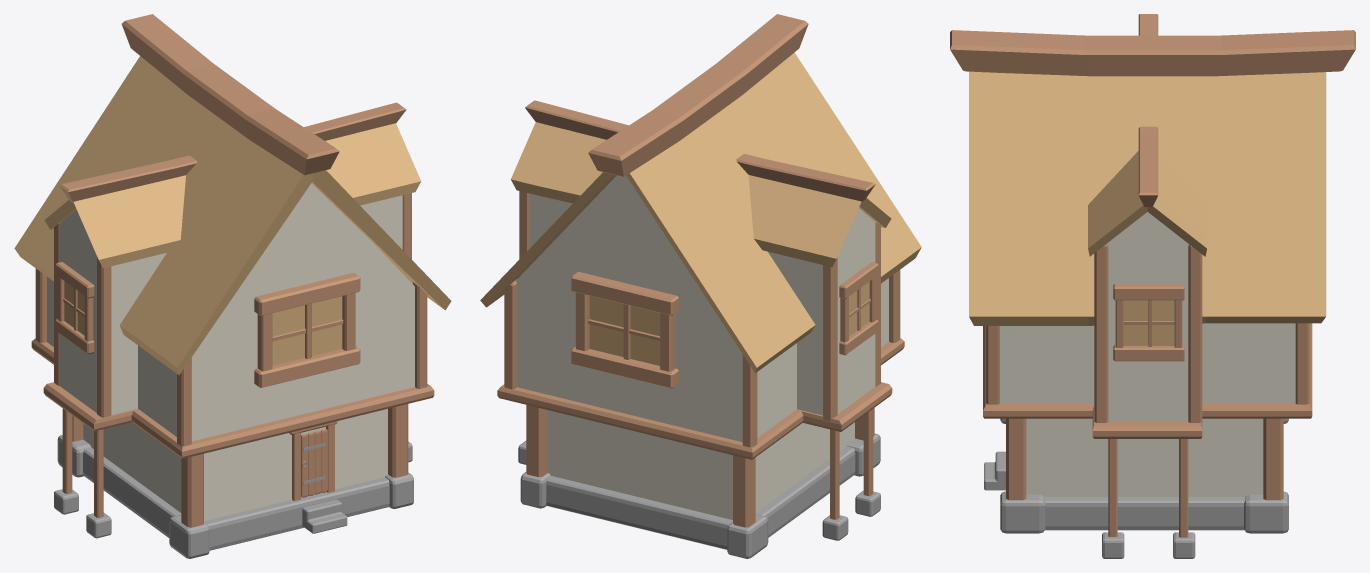
File: tap fire house 3.fbx
3 renders of one model, left to right at view 1: azimuth 30°, elevation 25°; view 2: azimuth 150°, elevation 25°; view 3: azimuth 270°, elevation 25°, orthographic. The views are drawn at different scales.
Parts seen in each view (by area): view 1: polySurface126, polySurface2, polySurface125, polySurface13, polySurface124, polySurface6, polySurface127, polySurface4, polySurface14, polySurface58, polySurface21, polySurface55 (+21 smaller); view 2: polySurface126, polySurface2, polySurface125, polySurface13, polySurface124, polySurface3, polySurface127, polySurface5, polySurface14, polySurface41, polySurface22, polySurface38 (+20 smaller); view 3: polySurface2, polySurface126, polySurface13, polySurface125, polySurface124, polySurface127, polySurface4, polySurface5, polySurface20, polySurface12, polySurface14, polySurface72 (+13 smaller).
Part boxes in pixels (bbox=[...]): polySurface126: bbox=[47, 183, 414, 441]; polySurface2: bbox=[14, 56, 451, 375]; polySurface125: bbox=[83, 409, 387, 520]; polySurface13: bbox=[121, 14, 339, 175]; polySurface124: bbox=[83, 447, 389, 550]; polySurface6: bbox=[73, 175, 185, 268]; polySurface127: bbox=[31, 338, 434, 458]; polySurface4: bbox=[325, 123, 421, 205]; polySurface14: bbox=[59, 102, 406, 203]; polySurface58: bbox=[272, 296, 342, 365]; polySurface21: bbox=[97, 256, 111, 417]; polySurface55: bbox=[254, 273, 360, 315]; polySurface126: bbox=[516, 175, 888, 442]; polySurface2: bbox=[480, 52, 921, 372]; polySurface125: bbox=[547, 410, 854, 519]; polySurface13: bbox=[588, 14, 808, 176]; polySurface124: bbox=[546, 446, 855, 549]; polySurface3: bbox=[748, 175, 861, 266]; polySurface127: bbox=[497, 338, 904, 459]; polySurface5: bbox=[511, 122, 606, 203]; polySurface14: bbox=[525, 100, 875, 201]; polySurface41: bbox=[589, 296, 659, 365]; polySurface22: bbox=[823, 257, 837, 421]; polySurface38: bbox=[571, 271, 678, 315]; polySurface2: bbox=[969, 71, 1326, 325]; polySurface126: bbox=[1000, 212, 1295, 421]; polySurface13: bbox=[950, 30, 1355, 76]; polySurface125: bbox=[1026, 418, 1263, 496]; polySurface124: bbox=[1044, 497, 1245, 530]; polySurface127: bbox=[983, 323, 1312, 438]; polySurface4: bbox=[1088, 151, 1147, 256]; polySurface5: bbox=[1147, 152, 1206, 256]; polySurface20: bbox=[1094, 243, 1108, 422]; polySurface12: bbox=[1188, 244, 1202, 424]; polySurface14: bbox=[1138, 14, 1158, 206]; polySurface72: bbox=[1123, 300, 1174, 345].
Bounding box in the file's own units: 3.92 × 4.42 × 3.72.
